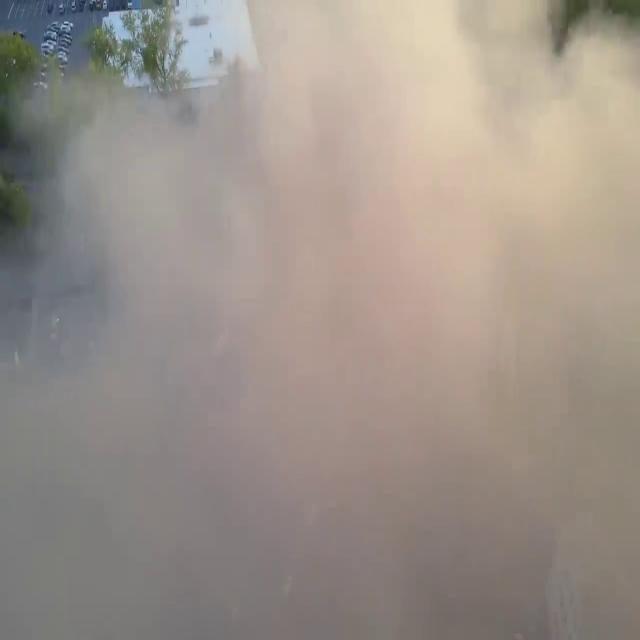Smoke: (0, 1, 638, 640)
